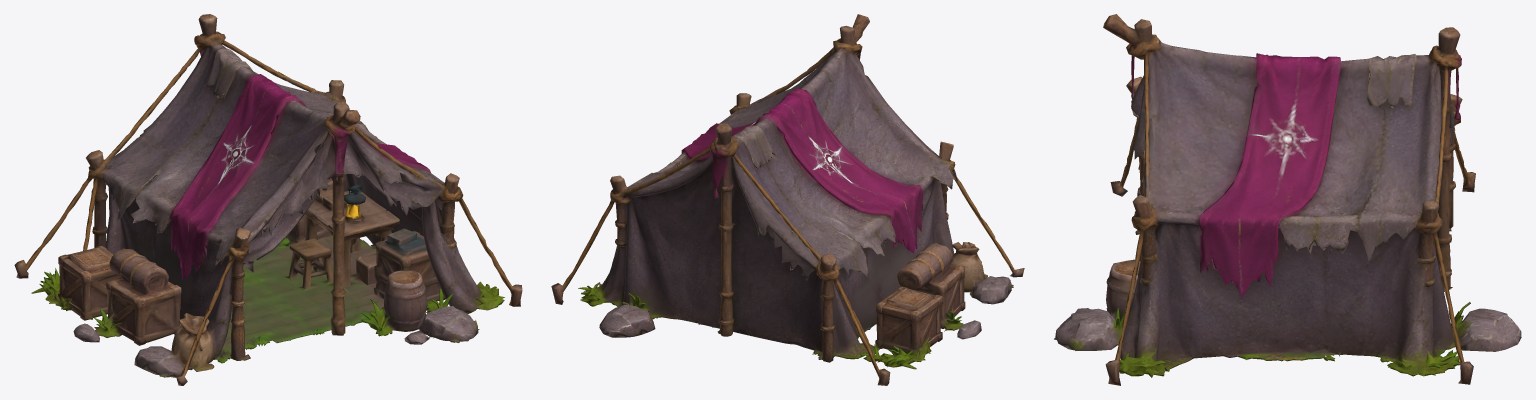
Rendered from gen_tent.glb.
The picture shows the model from 3 angles, left to right: view 1: azimuth 30°, elevation 25°; view 2: azimuth 150°, elevation 25°; view 3: azimuth 270°, elevation 25°; orthographic projection. The views are drawn at different scales.
Parts seen in each view (by area): view 1: tripo_node_509b0cac-9b25-47cf-85ef-381c0bf55729; view 2: tripo_node_509b0cac-9b25-47cf-85ef-381c0bf55729; view 3: tripo_node_509b0cac-9b25-47cf-85ef-381c0bf55729.
Part boxes in pixels (<box>): tripo_node_509b0cac-9b25-47cf-85ef-381c0bf55729: <box>14,14,522,385</box>; tripo_node_509b0cac-9b25-47cf-85ef-381c0bf55729: <box>551,14,1024,385</box>; tripo_node_509b0cac-9b25-47cf-85ef-381c0bf55729: <box>1054,14,1521,385</box>.
Bounding box in the file's own units: 0.9774 × 0.5899 × 0.9122.
1 material, 1 textured.
